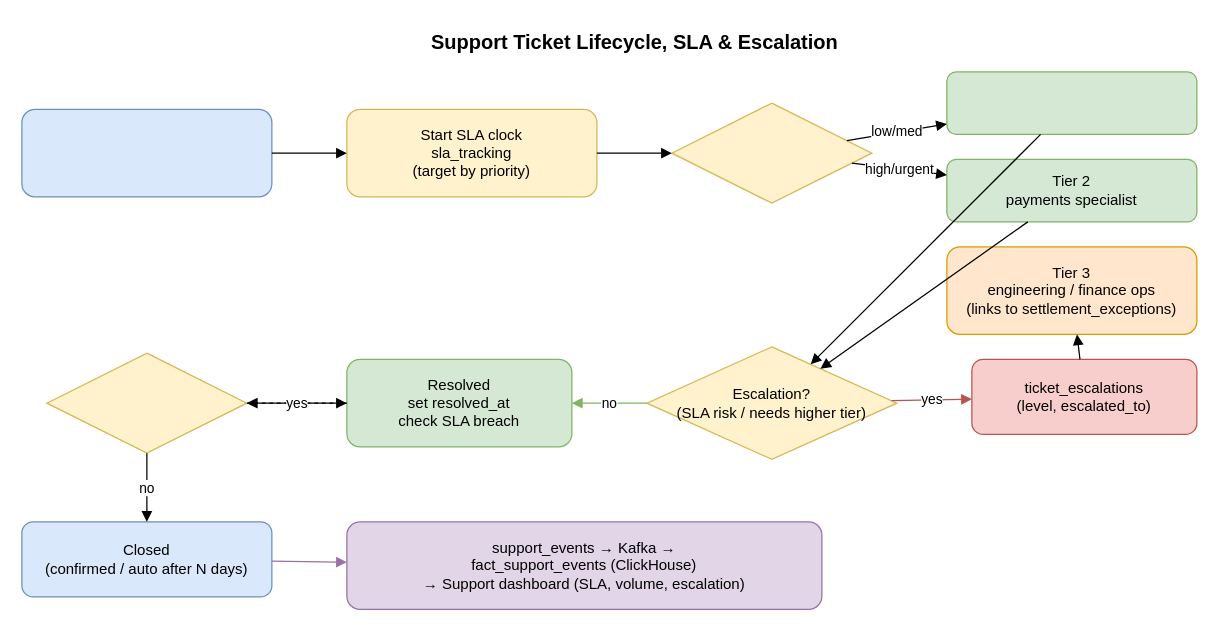
Some shapes in this 1219 by 631 pixel diagram are drawn without their labels. The shapes that lost their labels are listed below. From the top down, each one's centre as x and y in pixels, then its label:
At pixel 1071 102: "Tier 1 scripted resolution".
At pixel 146 152: "Ticket raised (merchant / customer) category + priority".
At pixel 771 152: "Priority?".
At pixel 146 402: "Reopened?".
